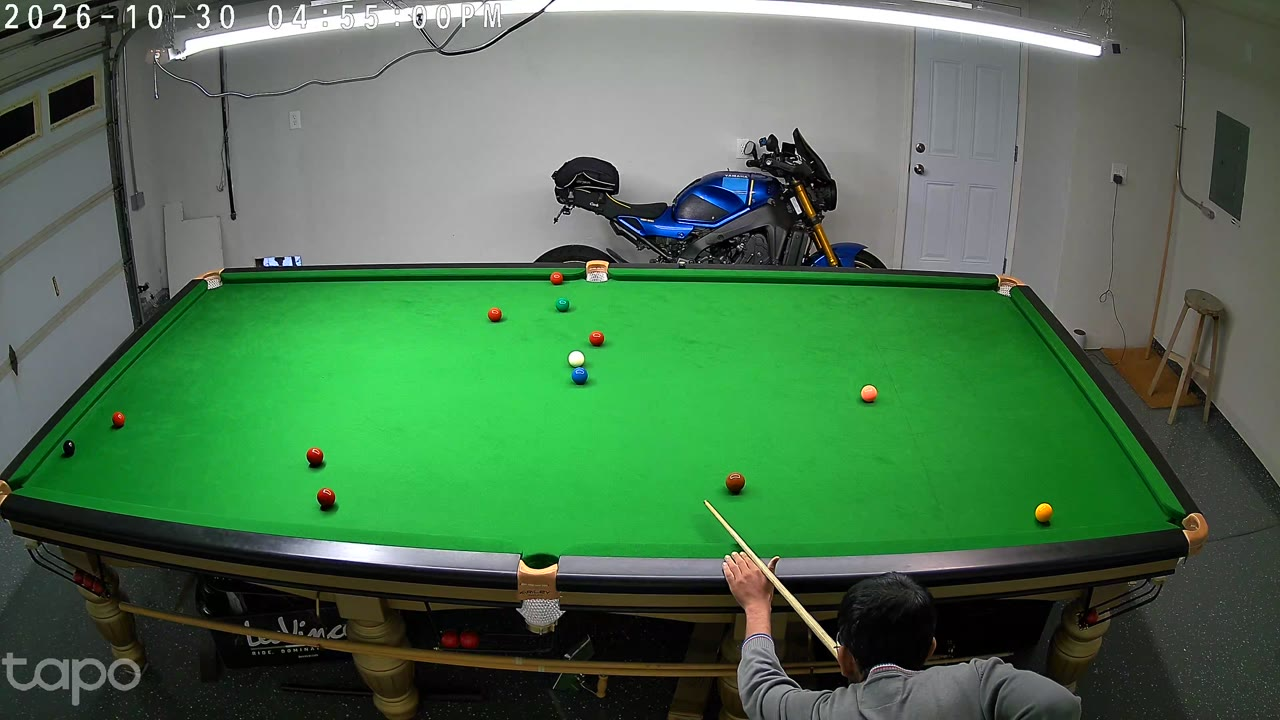black: (62, 438, 75, 459)
blue: (572, 365, 588, 386)
brown: (725, 471, 745, 498)
green: (556, 297, 569, 314)
pink: (860, 384, 876, 404)
red: (317, 485, 336, 513), (307, 445, 323, 469), (589, 329, 604, 350), (112, 410, 125, 430), (488, 306, 501, 325), (551, 271, 562, 288)
white: (568, 349, 584, 373)
yellow: (1035, 501, 1053, 526)
